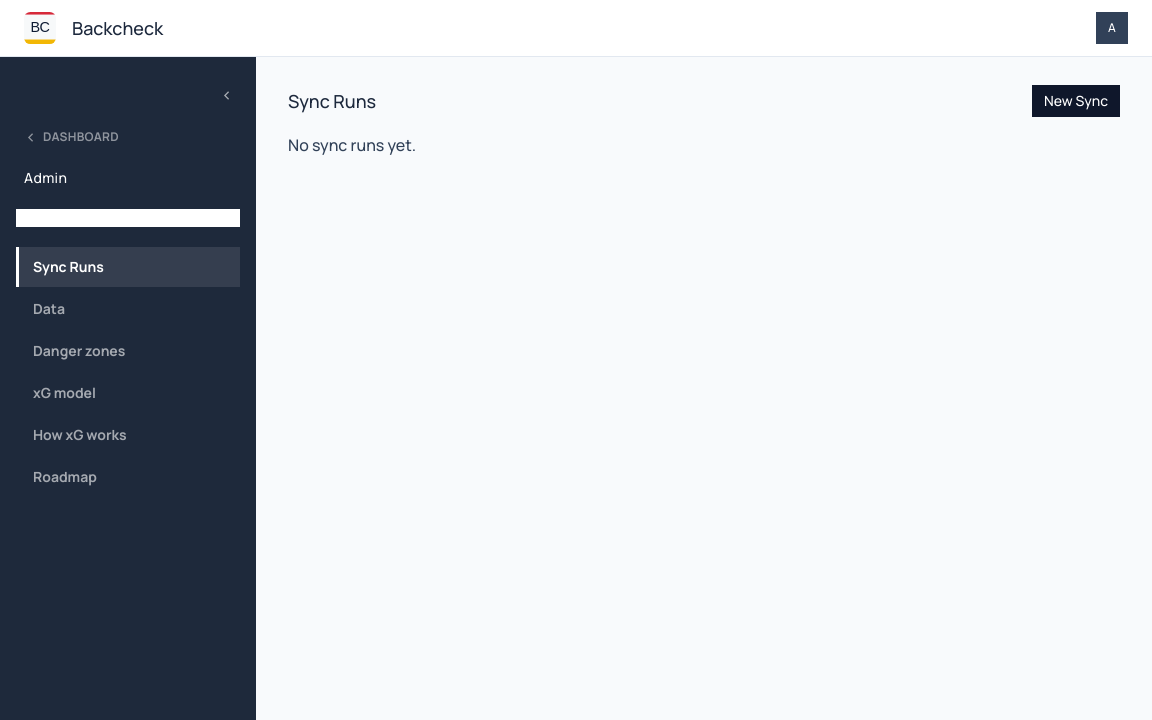
Test: AdminPage › navigates to the roadmap tab
What coordinates should you click on to do the following:
click the link "Roadmap"
I would click on:
 (65, 476)
Its box is [33,467,97,486].
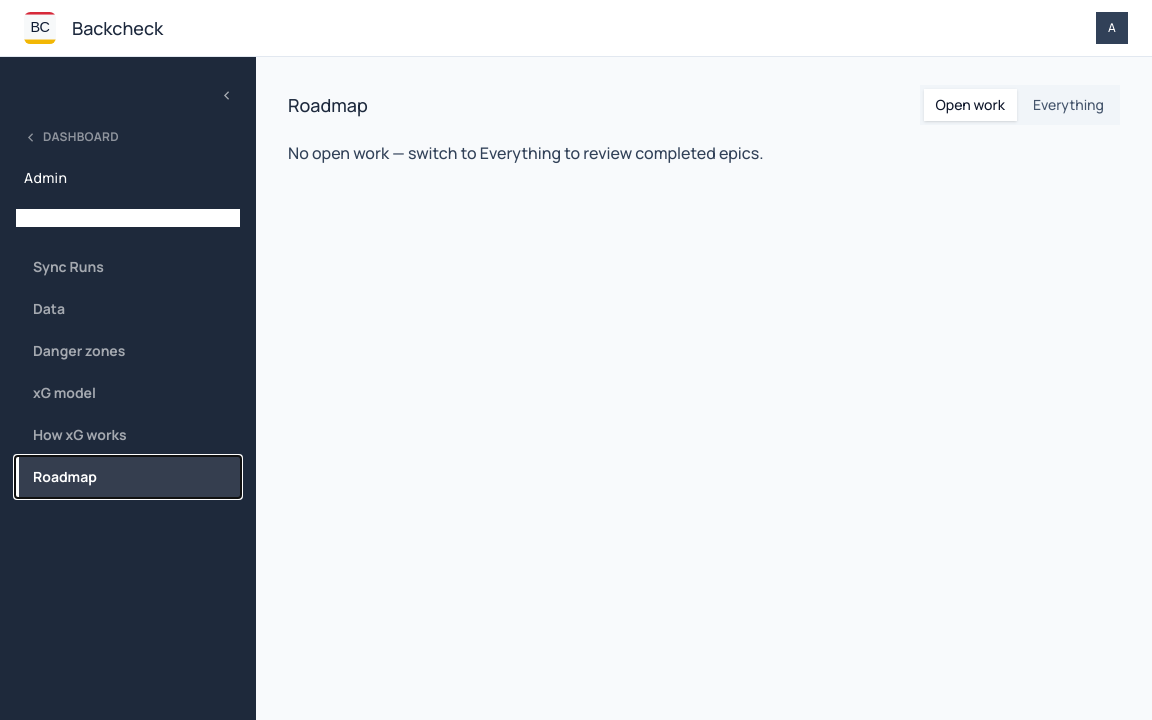
Expected: the heading "Roadmap" is shown, [288,91,368,119]
